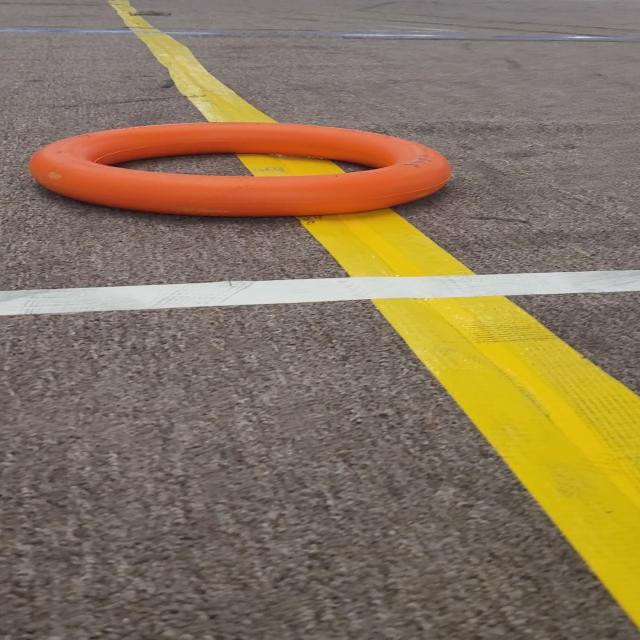note: (25, 115, 508, 228)
